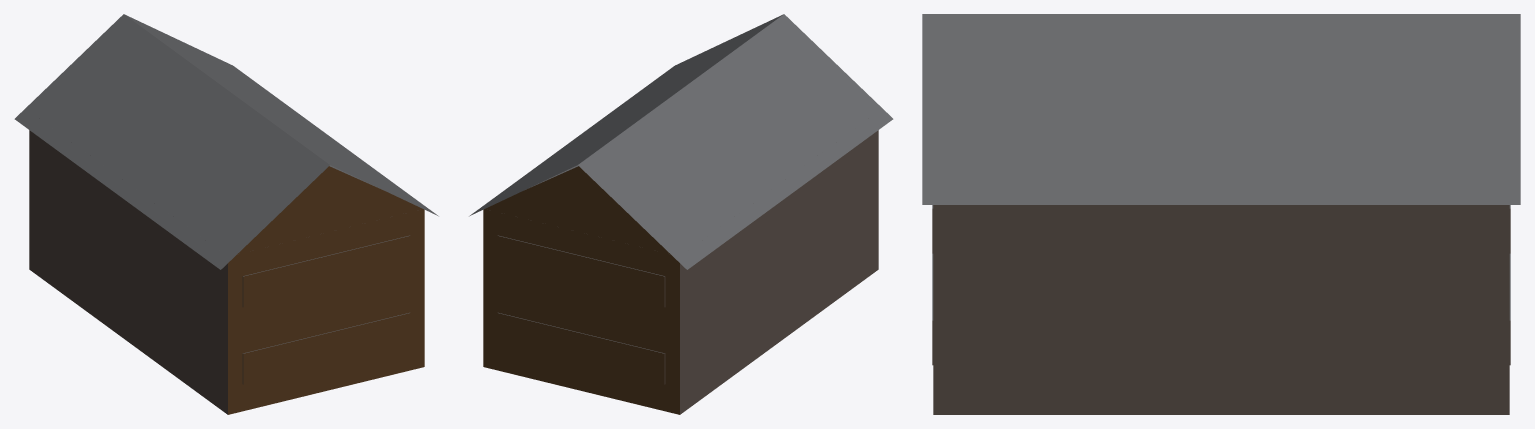
File: boathouse.far-facades-v2.lod2.glb
The picture shows the model from 3 angles, left to right: view 1: azimuth 30°, elevation 25°; view 2: azimuth 150°, elevation 25°; view 3: azimuth 270°, elevation 25°; orthographic projection. The views are drawn at different scales.
Visible parts, largest first — view 1: boathouse; view 2: boathouse; view 3: boathouse.
Part boxes in pixels (box(x1,y1,x2,y2)): boathouse: box(14, 14, 438, 414); boathouse: box(469, 14, 893, 414); boathouse: box(922, 14, 1520, 414).
Size of the model in its own units: 8.9 by 8.89 by 14.54.
